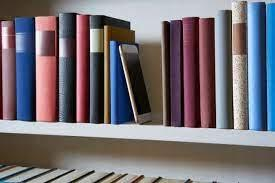book: (0, 15, 153, 122), (163, 3, 275, 128), (100, 24, 152, 122)
